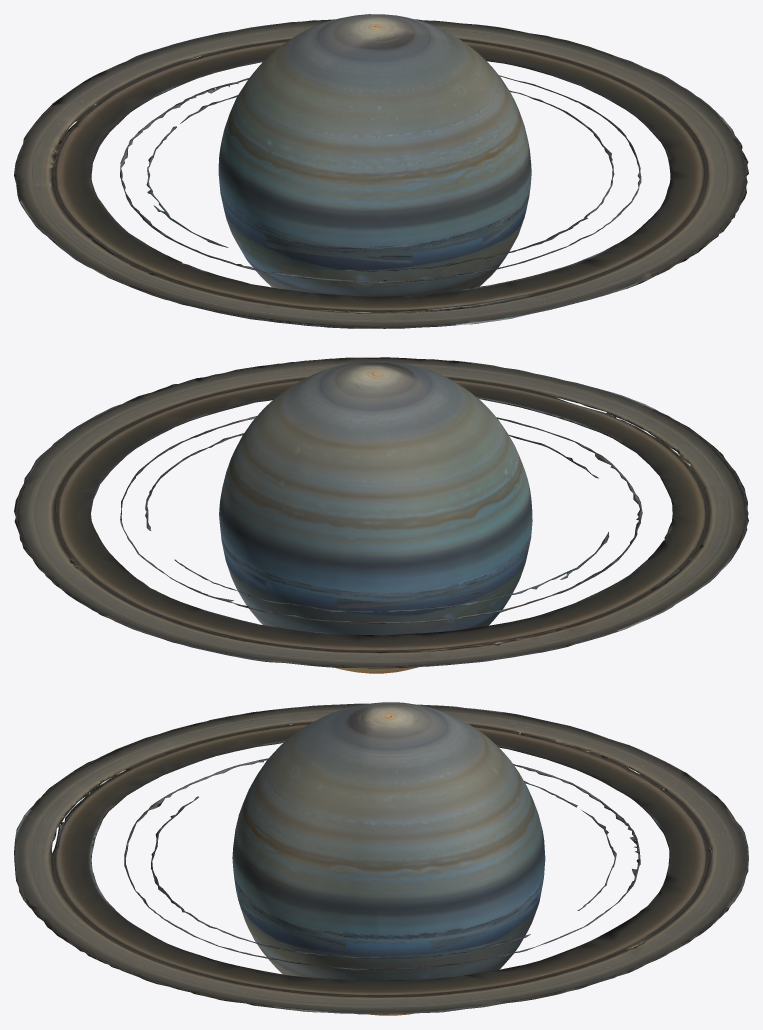
The model's file is saturn.glb.
3 renders of one model, top to bottom at view 1: azimuth 30°, elevation 25°; view 2: azimuth 150°, elevation 25°; view 3: azimuth 270°, elevation 25°, orthographic.
Size of the model in its own units: 1.75 by 0.7506 by 1.75.
1 material, 1 textured.
